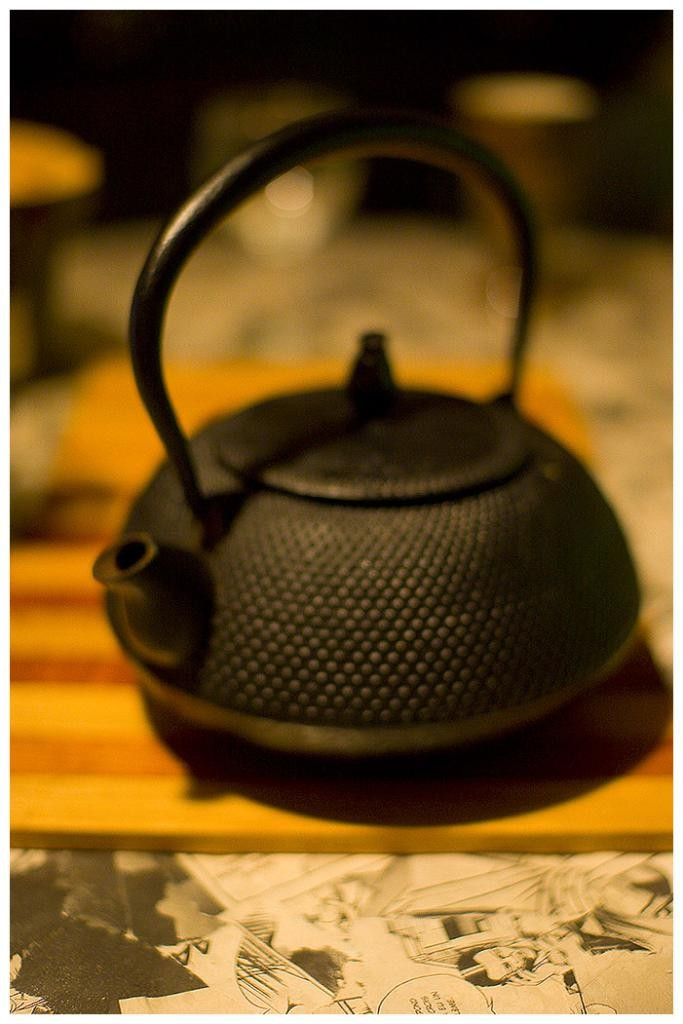teapot: (91, 109, 643, 755)
